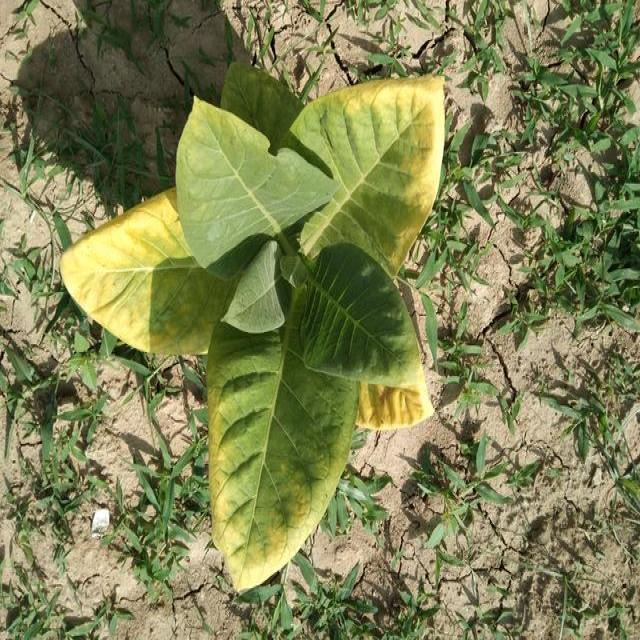crop: (55, 66, 466, 603)
